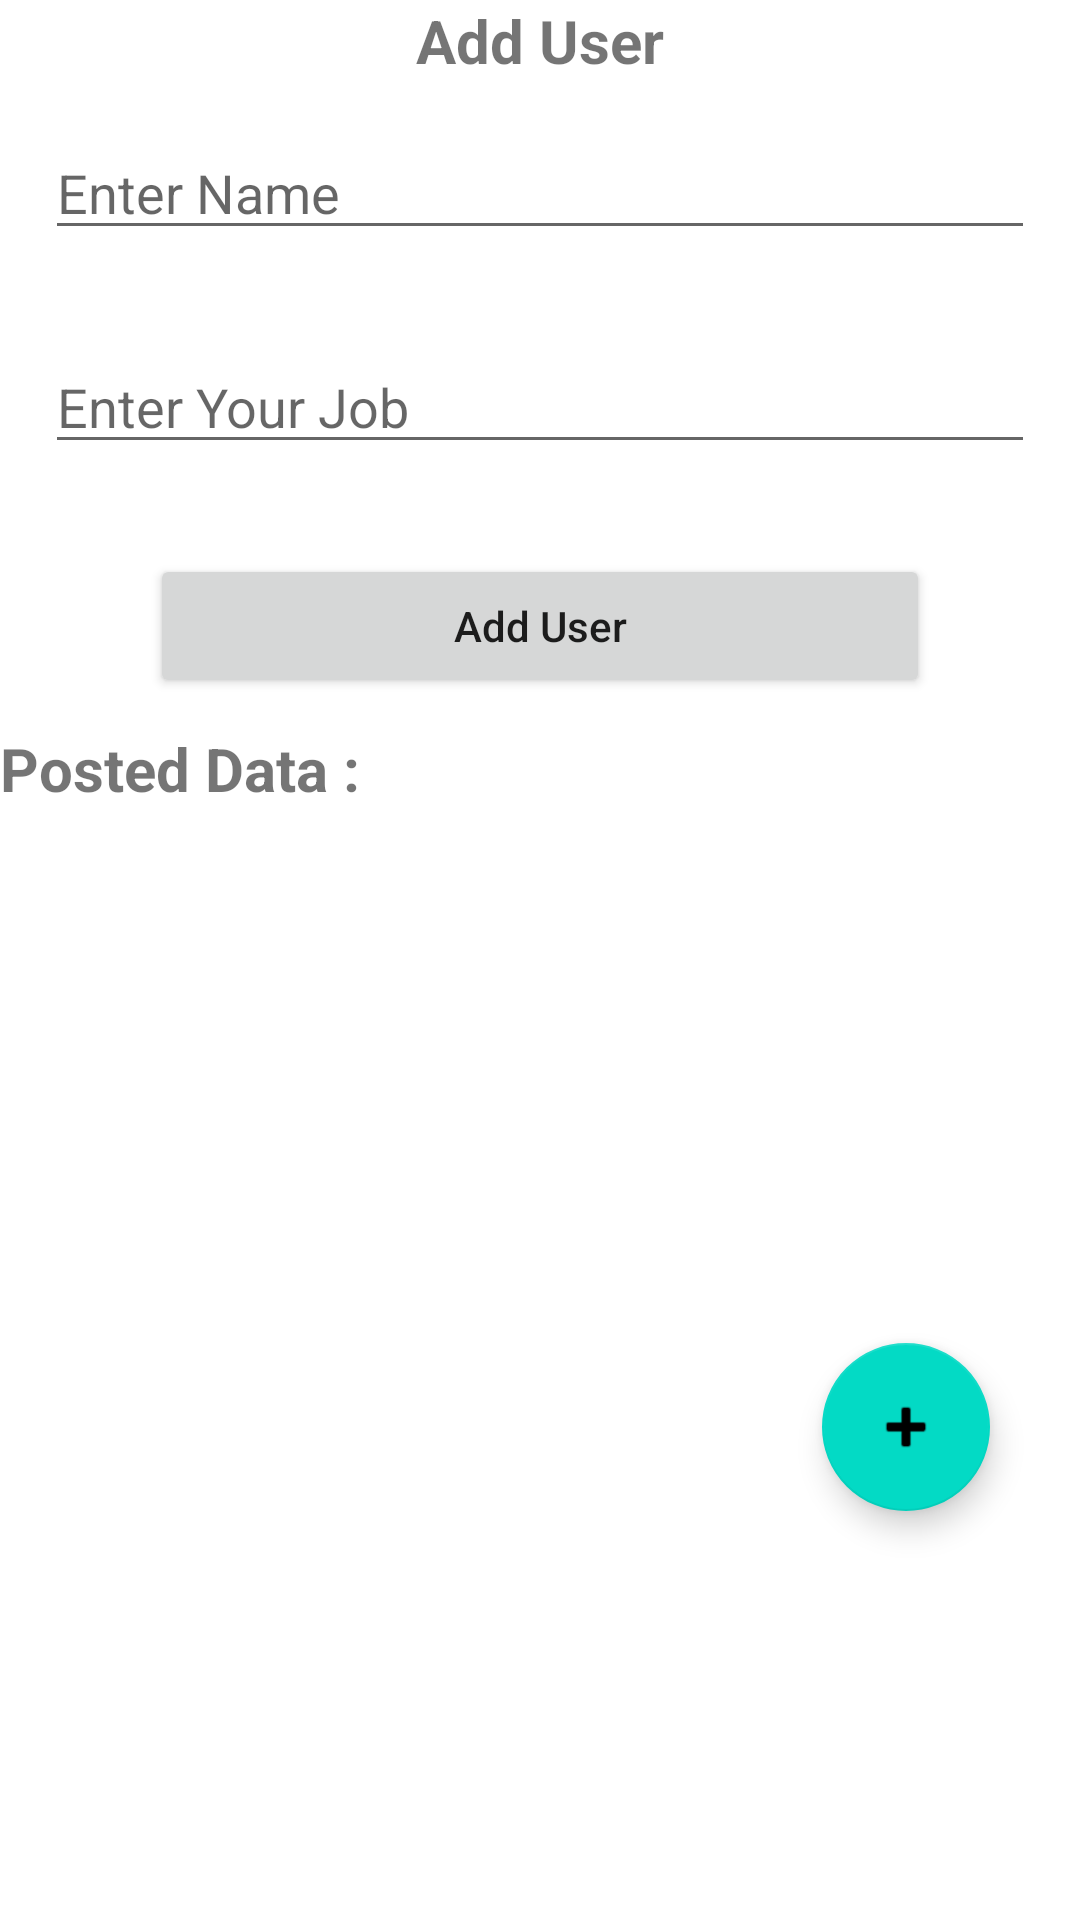

Where icons sit on this 1080px×1920px app screen, as (x1, y1, x2, y2):
add: (822, 1343, 990, 1511)
